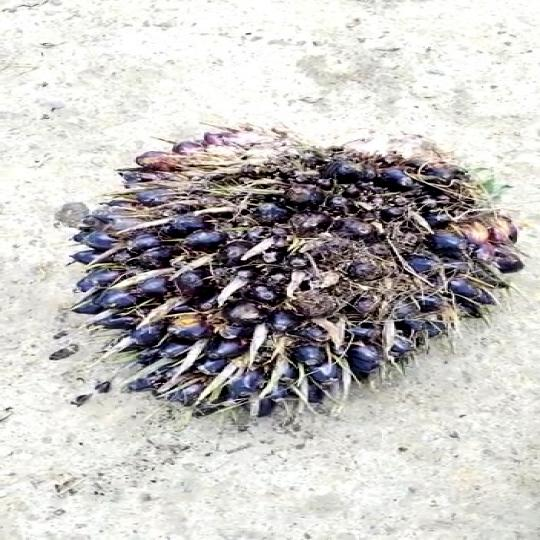mentah: (72, 113, 536, 436)
